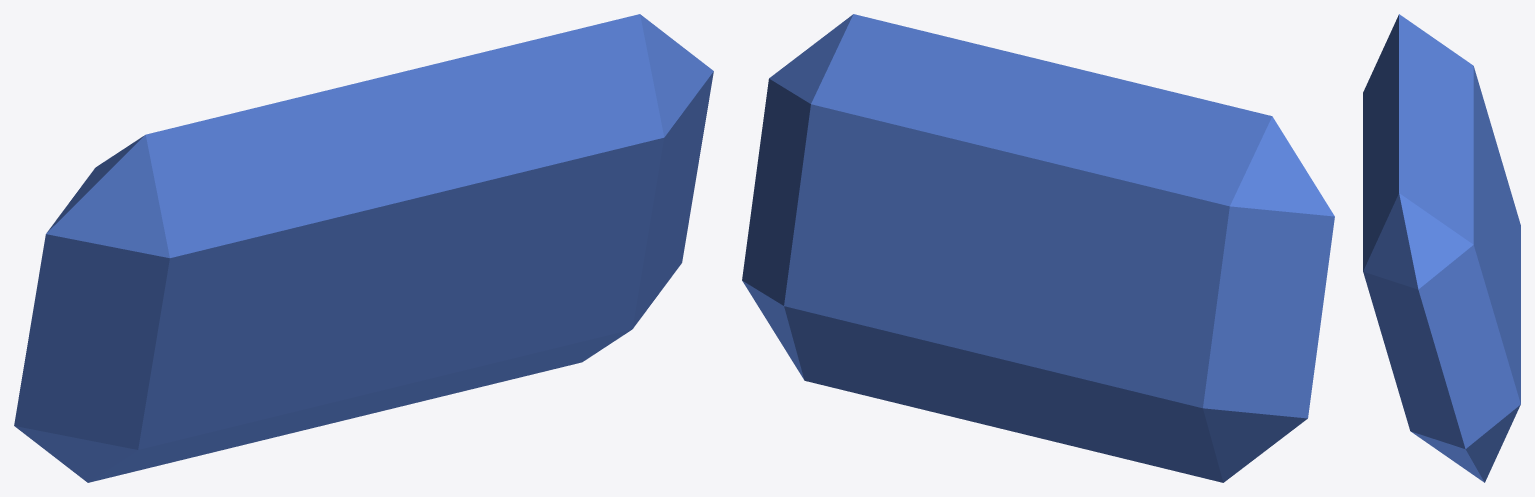
File: pillowBlue.obj
The picture shows the model from 3 angles, left to right: view 1: azimuth 30°, elevation 25°; view 2: azimuth 150°, elevation 25°; view 3: azimuth 270°, elevation 25°; orthographic projection. The views are drawn at different scales.
Parts seen in each view (by area): view 1: pillowBlue; view 2: pillowBlue; view 3: pillowBlue.
Boxes of the visible parts, left/top/right/bottom form: pillowBlue: left=14, top=14, right=713, bottom=482; pillowBlue: left=742, top=14, right=1334, bottom=482; pillowBlue: left=1363, top=14, right=1520, bottom=482.
Size of the model in its own units: 0.23 by 0.1285 by 0.0634.
